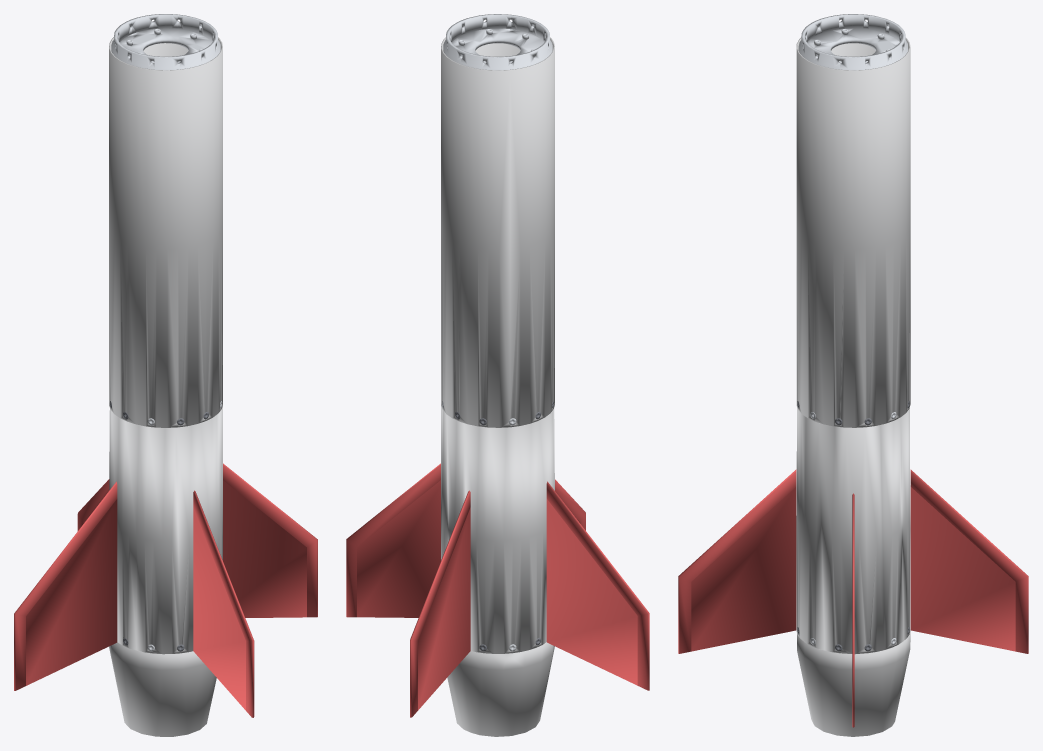
Rendered from aletas.glb.
3 renders of one model, left to right at view 1: azimuth 30°, elevation 25°; view 2: azimuth 150°, elevation 25°; view 3: azimuth 270°, elevation 25°, orthographic.
Visible parts, largest first — view 1: geometry_2, geometry_3, geometry_1; view 2: geometry_2, geometry_3, geometry_1; view 3: geometry_2, geometry_3, geometry_1.
Boxes of the visible parts, <box> form: geometry_2: <box>109,37,222,736</box>; geometry_3: <box>14,463,317,717</box>; geometry_1: <box>111,14,222,651</box>; geometry_2: <box>441,37,554,736</box>; geometry_3: <box>346,463,649,717</box>; geometry_1: <box>442,14,552,651</box>; geometry_2: <box>796,37,910,736</box>; geometry_3: <box>678,469,1028,727</box>; geometry_1: <box>798,14,908,645</box>.
Size of the model in its own units: 0.534 by 1.15 by 0.534.
